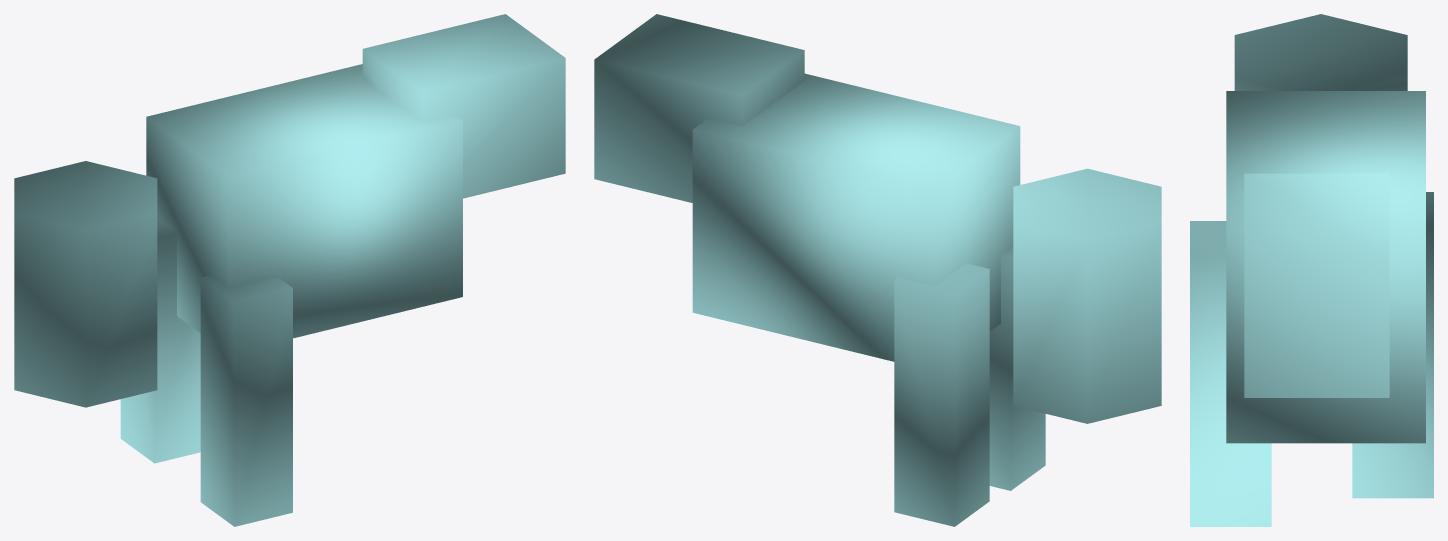
Rendered from ps2_jrpg_sacred_grove_corrupted_spirit_enemy.obj.
3 views of the same model, side by side, from view 1: azimuth 30°, elevation 25°; view 2: azimuth 150°, elevation 25°; view 3: azimuth 270°, elevation 25° (orthographic). The views are drawn at different scales.
Size of the model in its own units: 1.6 by 1.08 by 0.5372.
